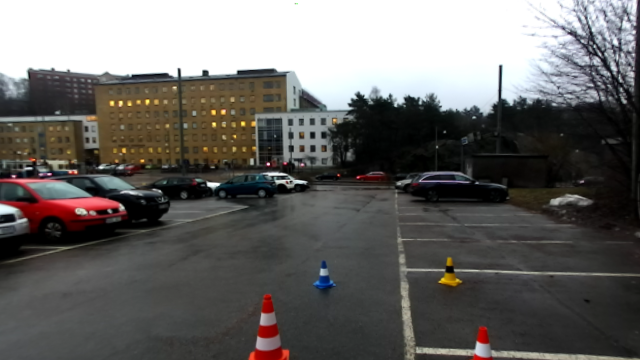blue: (313, 261, 334, 290)
orange: (469, 324, 495, 360)
orange2: (249, 294, 290, 360)
yellow: (437, 255, 463, 287)
